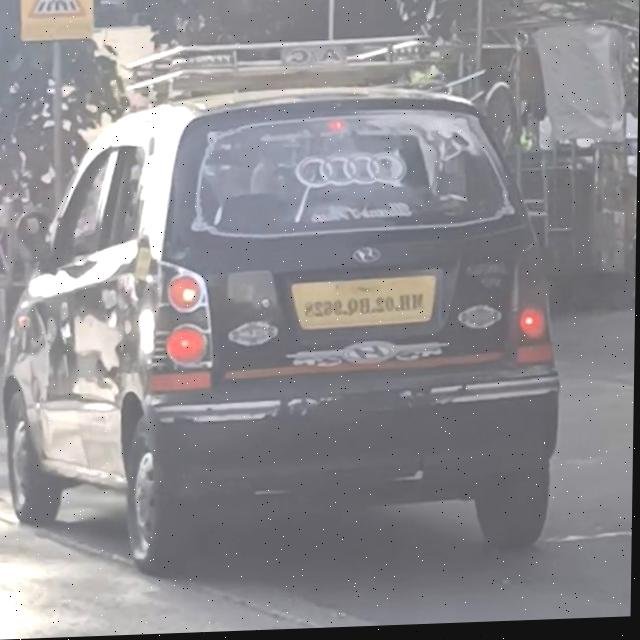plate: (280, 267, 446, 342)
